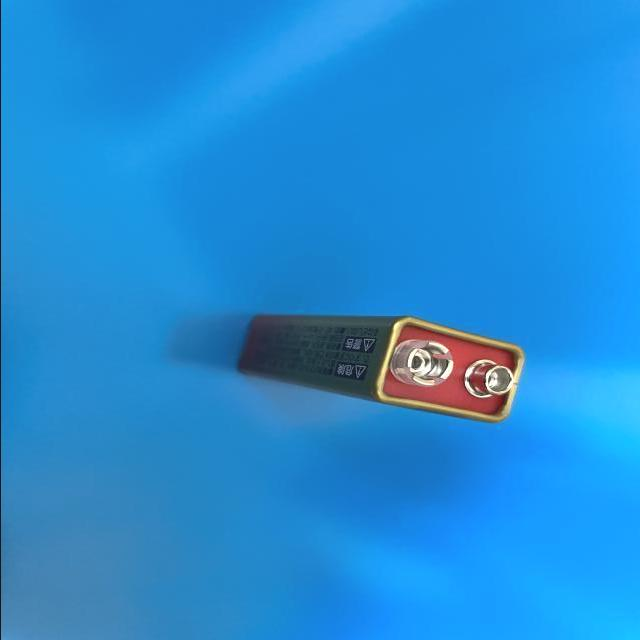9V: (235, 314, 525, 423)
